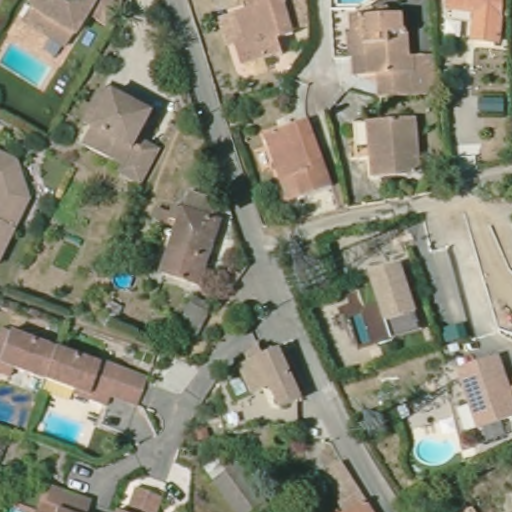pool: (1, 42, 53, 89), (40, 407, 87, 451), (414, 433, 459, 468), (1, 380, 31, 430), (99, 262, 141, 296), (323, 1, 373, 12)
